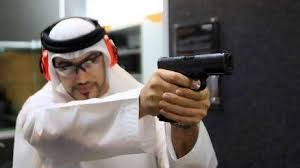gun: (156, 46, 234, 122)
